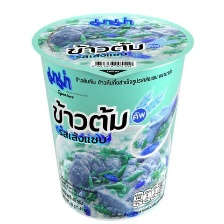paper_cup: (26, 7, 197, 223)
